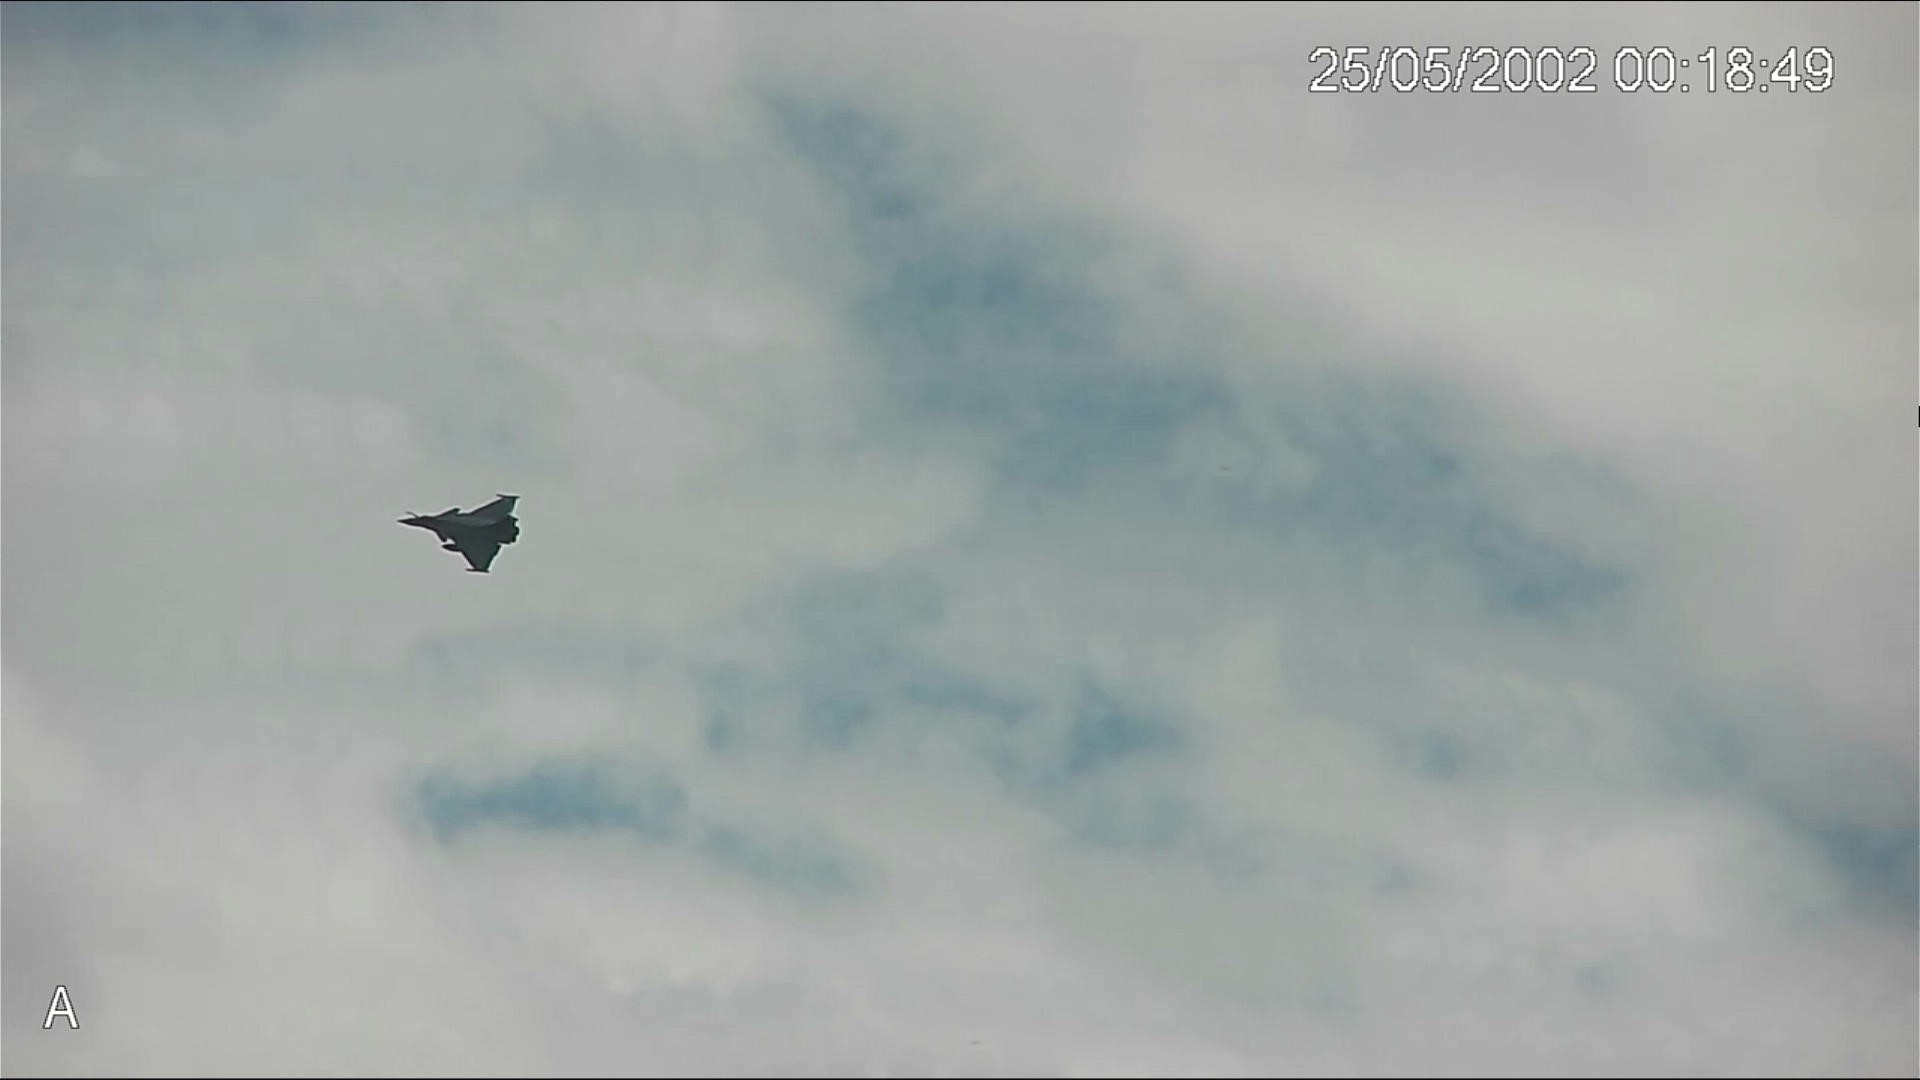SU_30: (389, 492, 541, 574)
